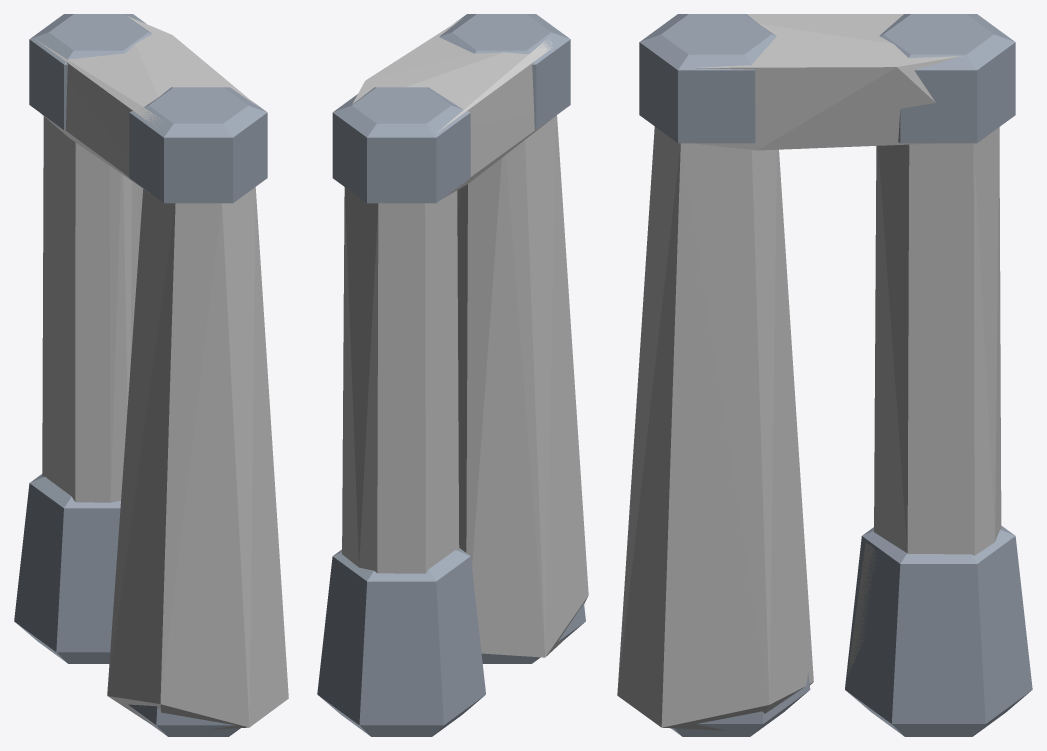
Rendered from SM_Prop_Signal_Horn_01_polySurface1795.fbx.
The picture shows the model from 3 angles, left to right: view 1: azimuth 30°, elevation 25°; view 2: azimuth 150°, elevation 25°; view 3: azimuth 270°, elevation 25°; orthographic projection. The views are drawn at different scales.
Parts seen in each view (by area): view 1: SM_Prop_Signal_Horn_01_polySurface1795_ConvexHulls, SM_Prop_Signal_Horn_01_polySurface1795; view 2: SM_Prop_Signal_Horn_01_polySurface1795_ConvexHulls, SM_Prop_Signal_Horn_01_polySurface1795; view 3: SM_Prop_Signal_Horn_01_polySurface1795_ConvexHulls, SM_Prop_Signal_Horn_01_polySurface1795.
Boxes of the visible parts, x1,y1,x2,y2 form: SM_Prop_Signal_Horn_01_polySurface1795_ConvexHulls: (37,15,288,731); SM_Prop_Signal_Horn_01_polySurface1795: (14,14,267,736); SM_Prop_Signal_Horn_01_polySurface1795_ConvexHulls: (342,19,588,657); SM_Prop_Signal_Horn_01_polySurface1795: (317,14,585,736); SM_Prop_Signal_Horn_01_polySurface1795_ConvexHulls: (617,14,1001,730); SM_Prop_Signal_Horn_01_polySurface1795: (639,14,1032,736).
Size of the model in its own units: 12.14 by 29.47 by 53.07.
2 materials, 1 textured.
